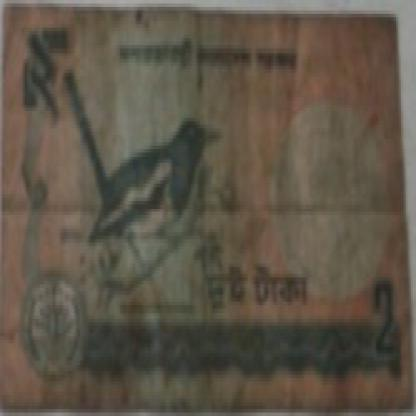two taka: (17, 24, 66, 135), (363, 267, 411, 367)
